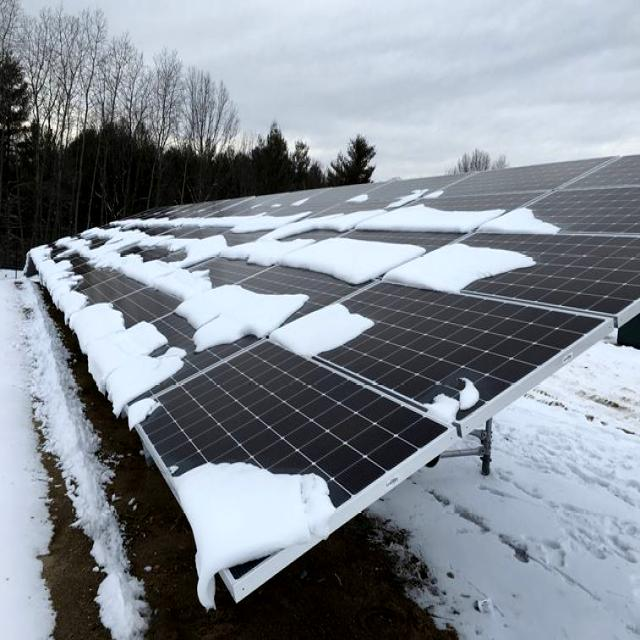panel: (162, 409, 350, 588), (84, 298, 182, 425), (150, 255, 298, 336), (244, 287, 383, 369), (412, 228, 544, 303), (311, 225, 432, 295), (381, 176, 484, 253), (412, 359, 490, 456), (485, 188, 575, 253), (80, 217, 152, 290), (26, 234, 90, 314), (162, 212, 244, 264), (240, 196, 310, 250), (336, 190, 376, 208)
